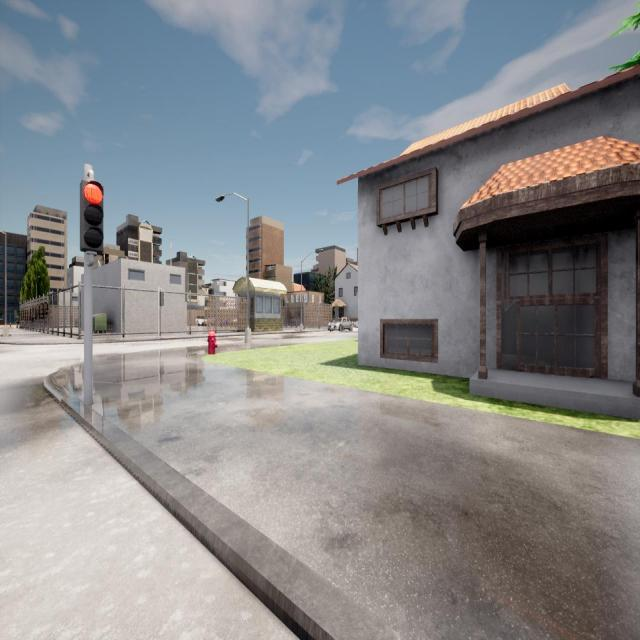Pedestrian: (16, 314, 20, 329)
Vehicle: (327, 316, 353, 331), (195, 315, 208, 326)
traffic_light: (80, 182, 104, 250), (160, 292, 164, 305)
